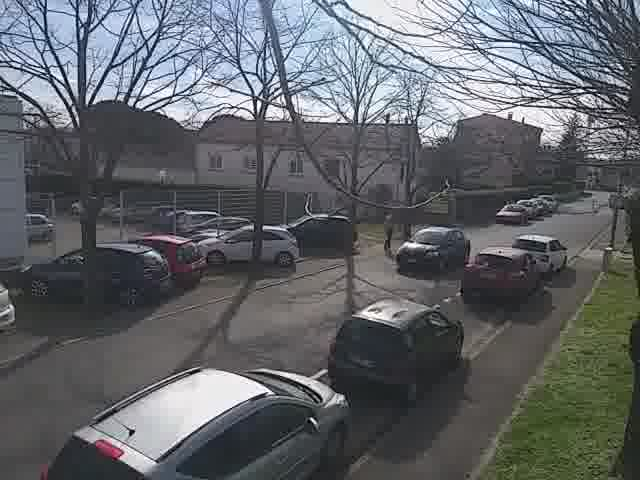persona: (378, 203, 397, 255)
